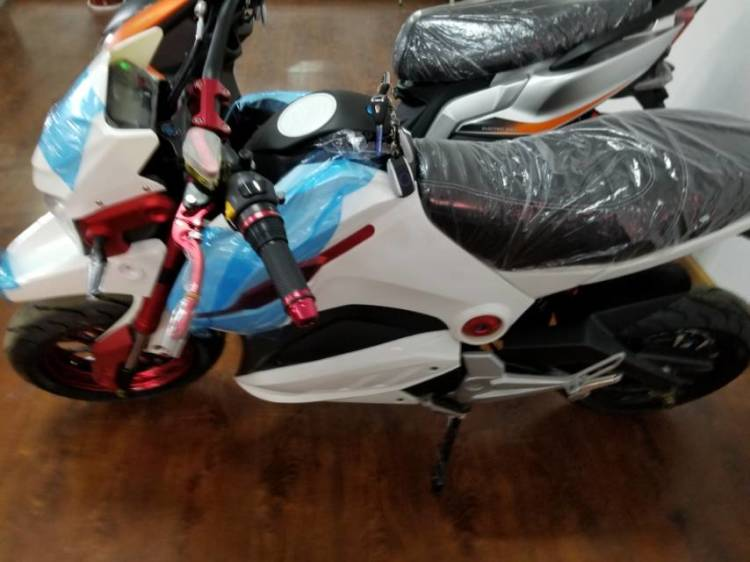电动车: (6, 1, 749, 474)
